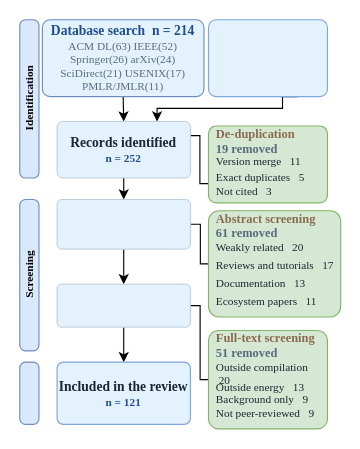
This 360x449 diagram has some shape labels left out. Each missing label, with the centre of its shape:
After abstract screening n = 172: point 123,305
After de-duplication n = 233: point 123,223
Included: point 29,392
Snowballing n = 38 Backward 24 · Forward 14: point 267,58
